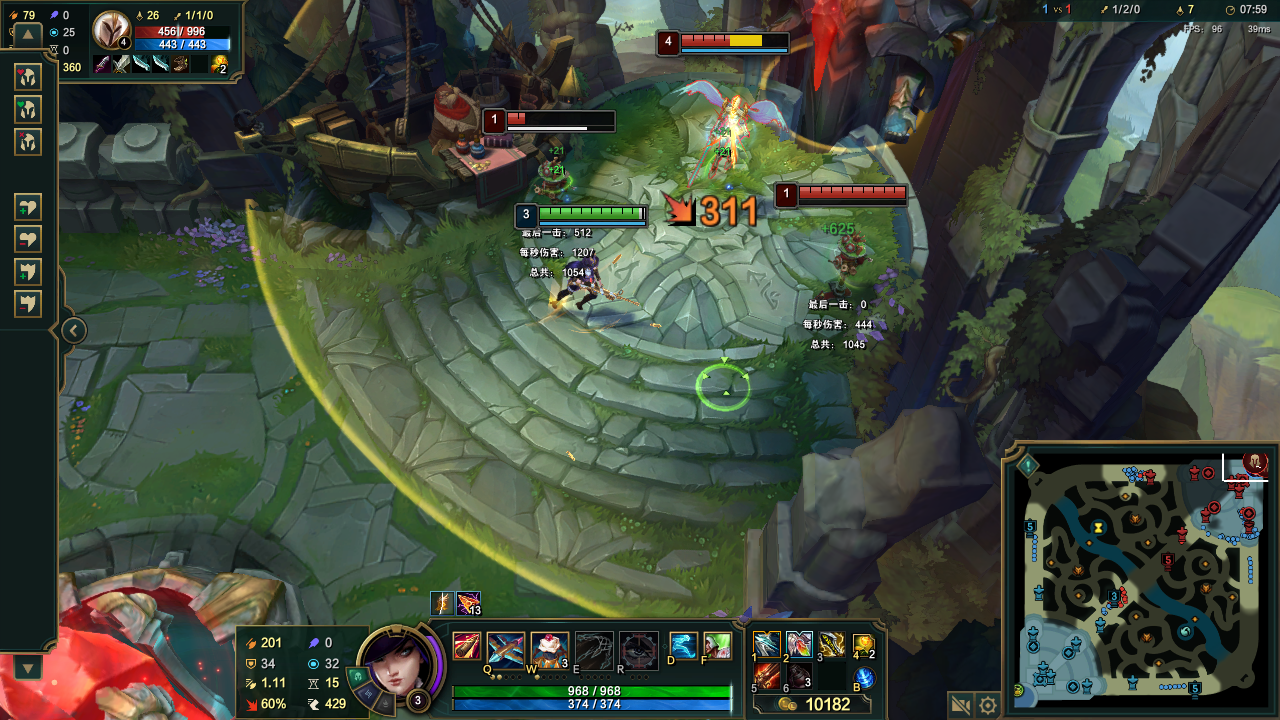DFYX: (505, 108, 614, 123), (680, 34, 789, 47), (796, 185, 910, 197)
